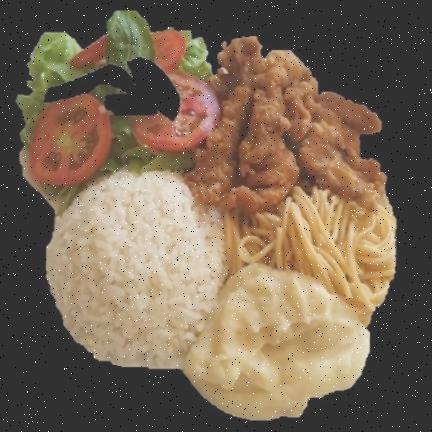rice: (48, 172, 226, 361)
